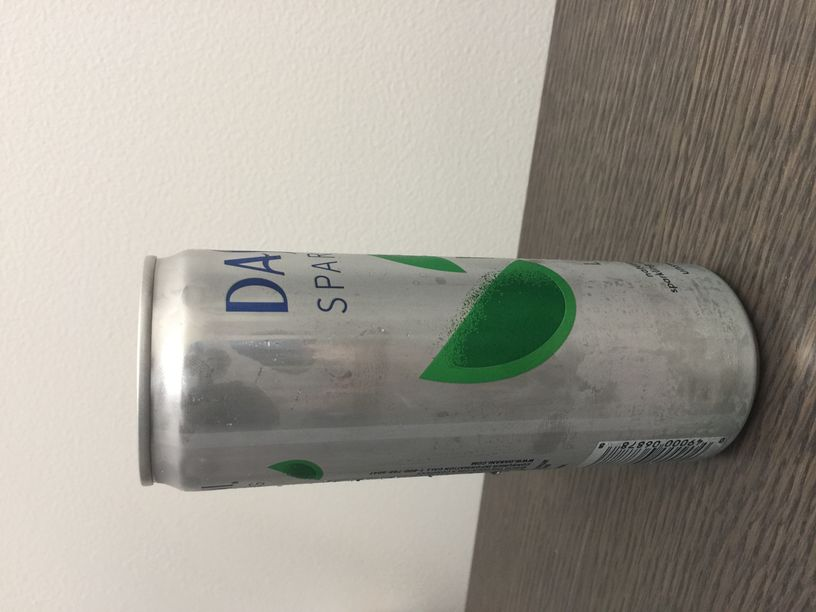lime: (349, 252, 610, 392), (257, 455, 333, 482)
